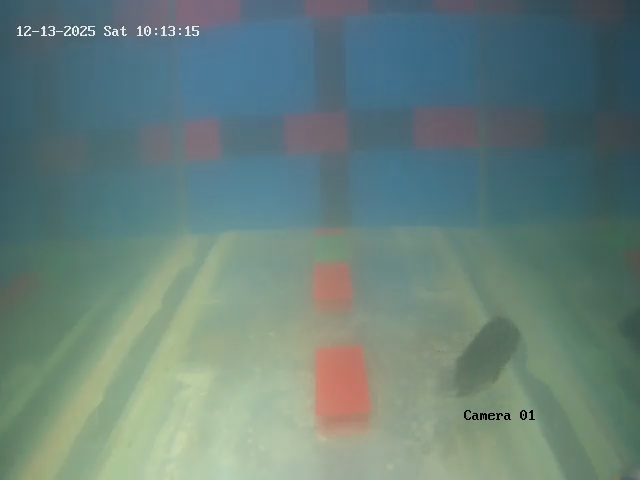fish: (447, 317, 520, 401)
